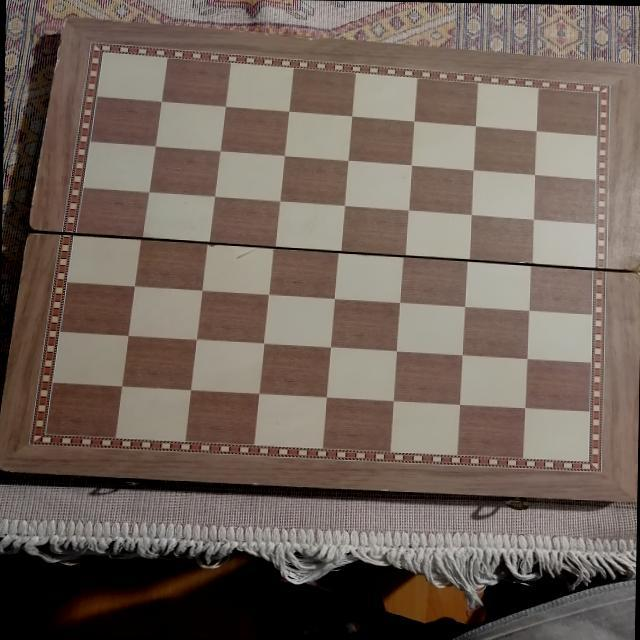corners: (59, 13, 83, 31), (628, 489, 640, 506), (0, 460, 10, 476), (634, 59, 640, 73)
